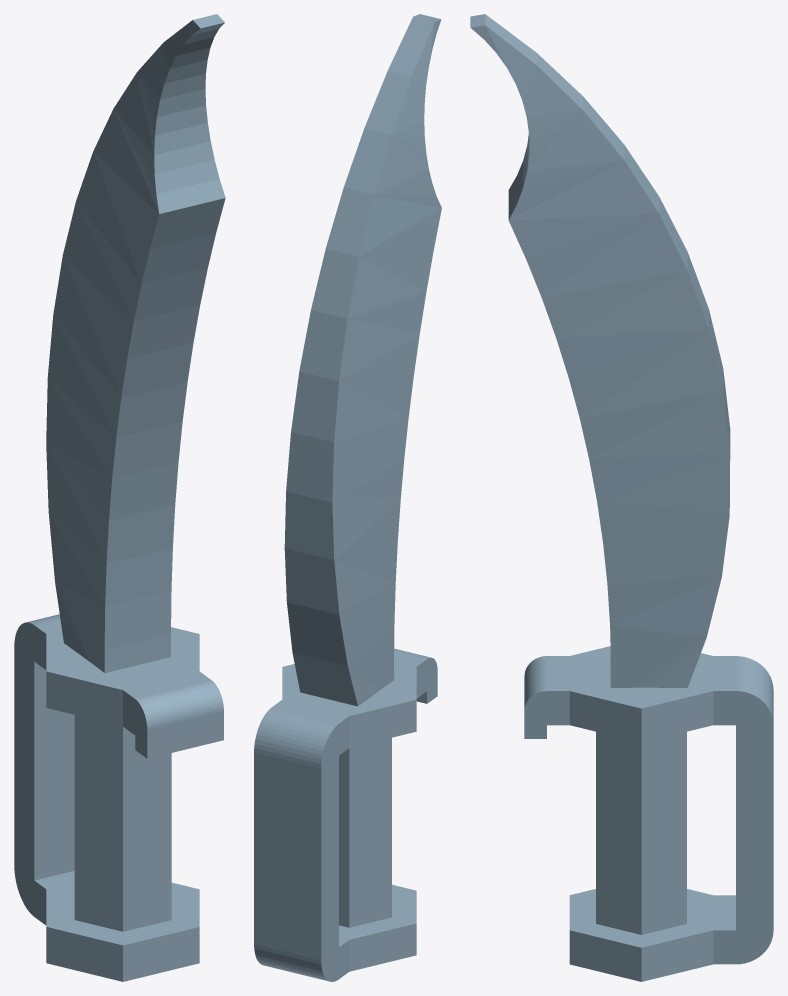
The model's file is sword_scimitar.glb.
The picture shows the model from 3 angles, left to right: view 1: azimuth 30°, elevation 25°; view 2: azimuth 150°, elevation 25°; view 3: azimuth 270°, elevation 25°; orthographic projection. The views are drawn at different scales.
Parts seen in each view (by area): view 1: sword_scimitar; view 2: sword_scimitar; view 3: sword_scimitar.
Part boxes in pixels (x1,y1,x2,y2): sword_scimitar: [14, 14, 225, 981]; sword_scimitar: [254, 14, 441, 981]; sword_scimitar: [470, 14, 773, 981].
Bounding box in the file's own units: 1.1 × 6.78 × 2.01.
